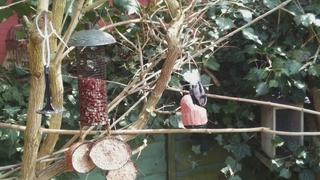long tailed tit: (193, 65, 207, 107)
